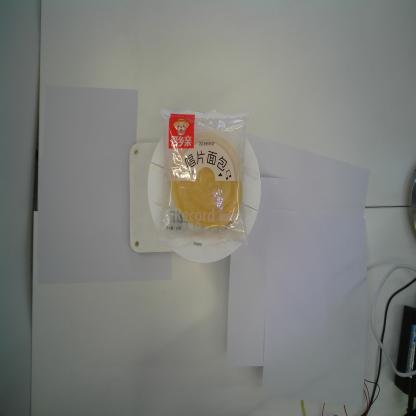Dessert: (155, 103, 249, 247)
